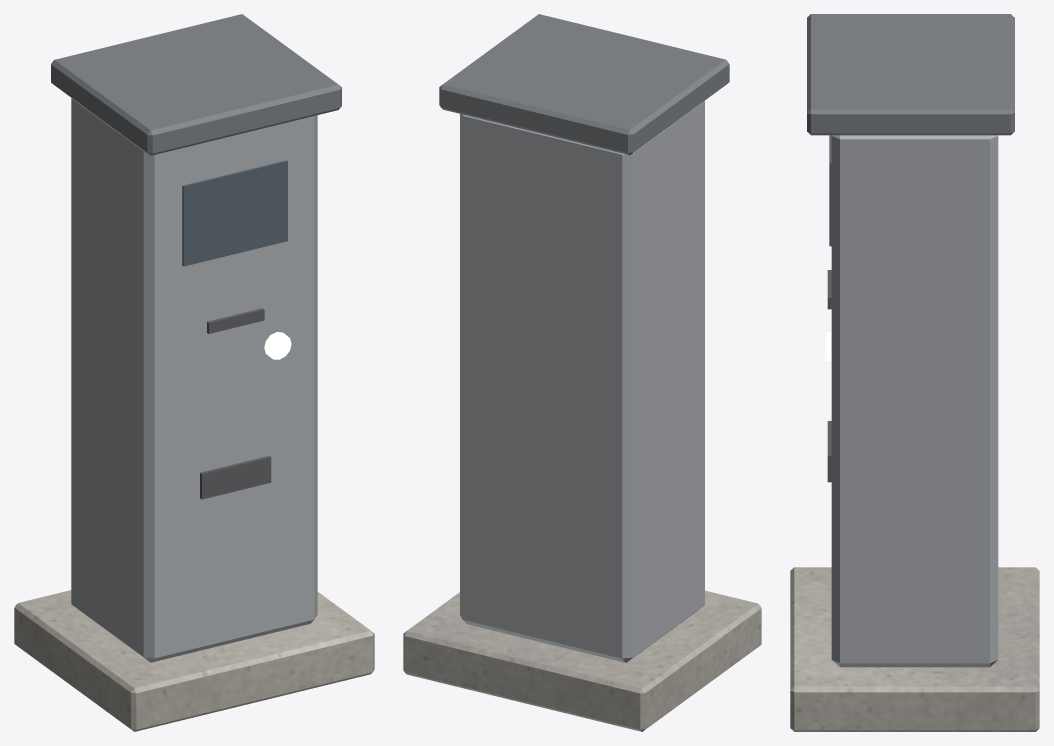
The model's file is ticket_kiosk.glb.
The picture shows the model from 3 angles, left to right: view 1: azimuth 30°, elevation 25°; view 2: azimuth 150°, elevation 25°; view 3: azimuth 270°, elevation 25°; orthographic projection. The views are drawn at different scales.
Parts seen in each view (by area): view 1: ticket_kiosk_steel, ticket_kiosk_steel_d, ticket_kiosk_concrete, ticket_kiosk_screen, ticket_kiosk_dark, ticket_kiosk_lamp_glass; view 2: ticket_kiosk_steel, ticket_kiosk_steel_d, ticket_kiosk_concrete; view 3: ticket_kiosk_steel, ticket_kiosk_steel_d, ticket_kiosk_concrete, ticket_kiosk_dark.
Boxes of the visible parts, x1,y1,x2,y2 form: ticket_kiosk_steel: (71,98,317,662); ticket_kiosk_steel_d: (51,14,341,155); ticket_kiosk_concrete: (14,590,374,731); ticket_kiosk_screen: (182,160,287,266); ticket_kiosk_dark: (200,308,271,499); ticket_kiosk_lamp_glass: (264,332,291,359); ticket_kiosk_steel: (460,100,704,662); ticket_kiosk_steel_d: (439,14,729,155); ticket_kiosk_concrete: (403,590,761,731); ticket_kiosk_steel: (831,135,998,667); ticket_kiosk_steel_d: (807,14,1014,135); ticket_kiosk_concrete: (790,567,1039,731); ticket_kiosk_dark: (827,270,831,482).
Size of the model in its own units: 0.7 by 1.62 by 0.6.
6 materials, 1 textured.
